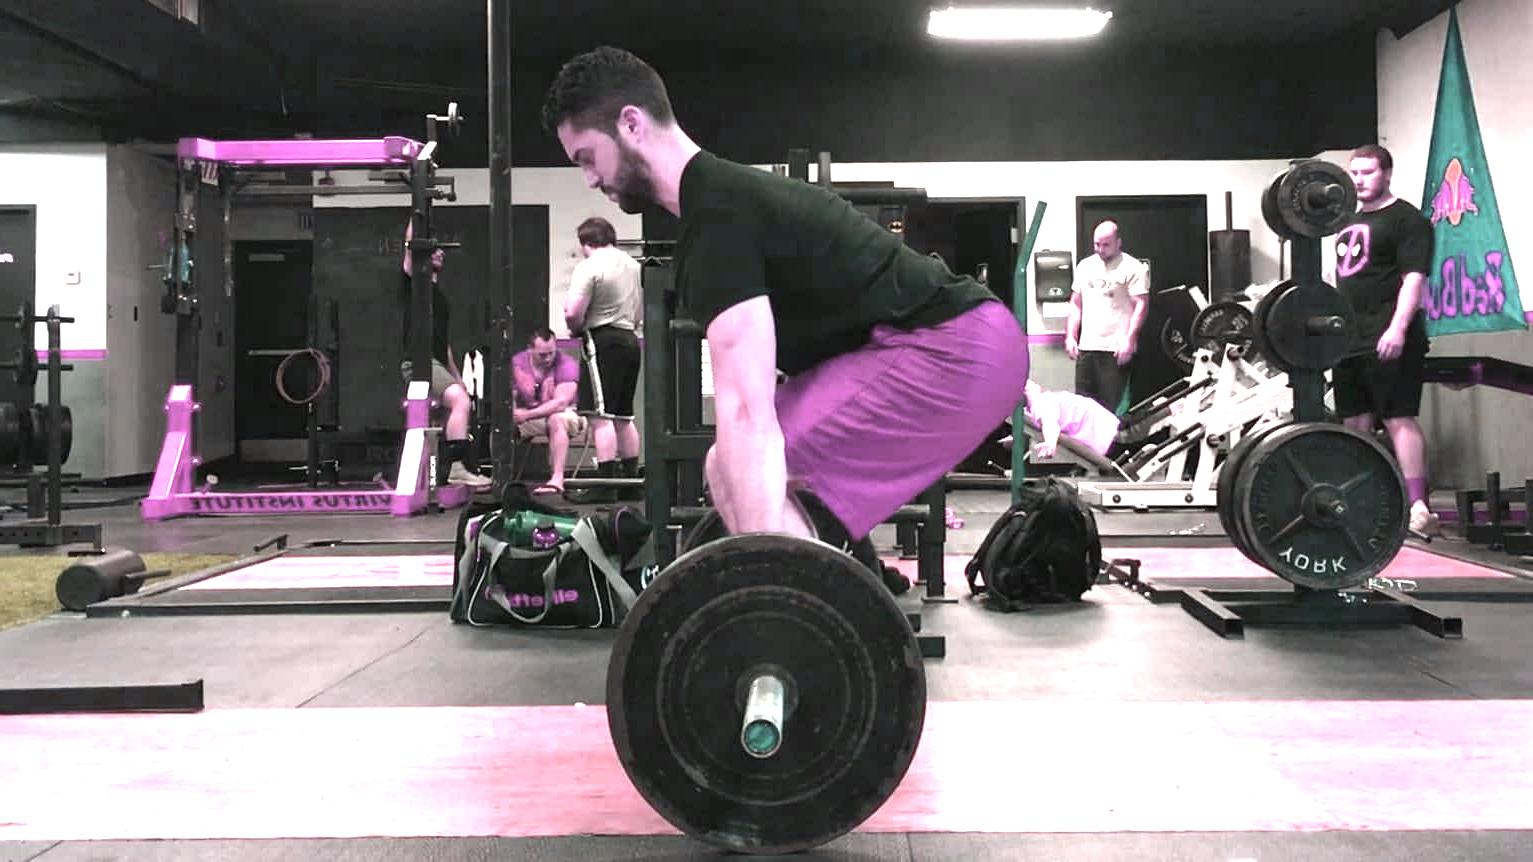Barbell: (731, 711, 787, 766)
